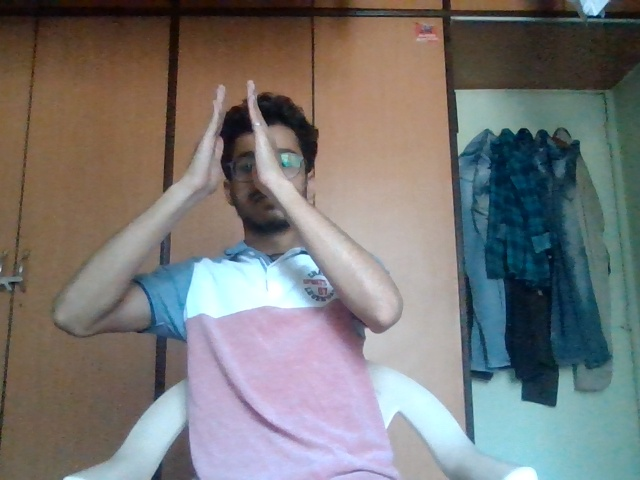morning: (181, 77, 296, 205)
